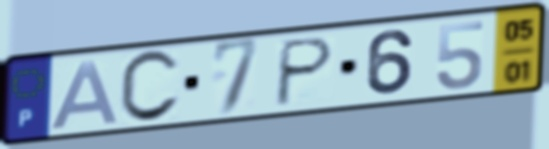5: (434, 18, 486, 91)
6: (365, 28, 417, 98)
7: (209, 35, 261, 122)
A: (47, 57, 123, 132)
C: (116, 47, 183, 126)
P: (271, 35, 338, 110)
